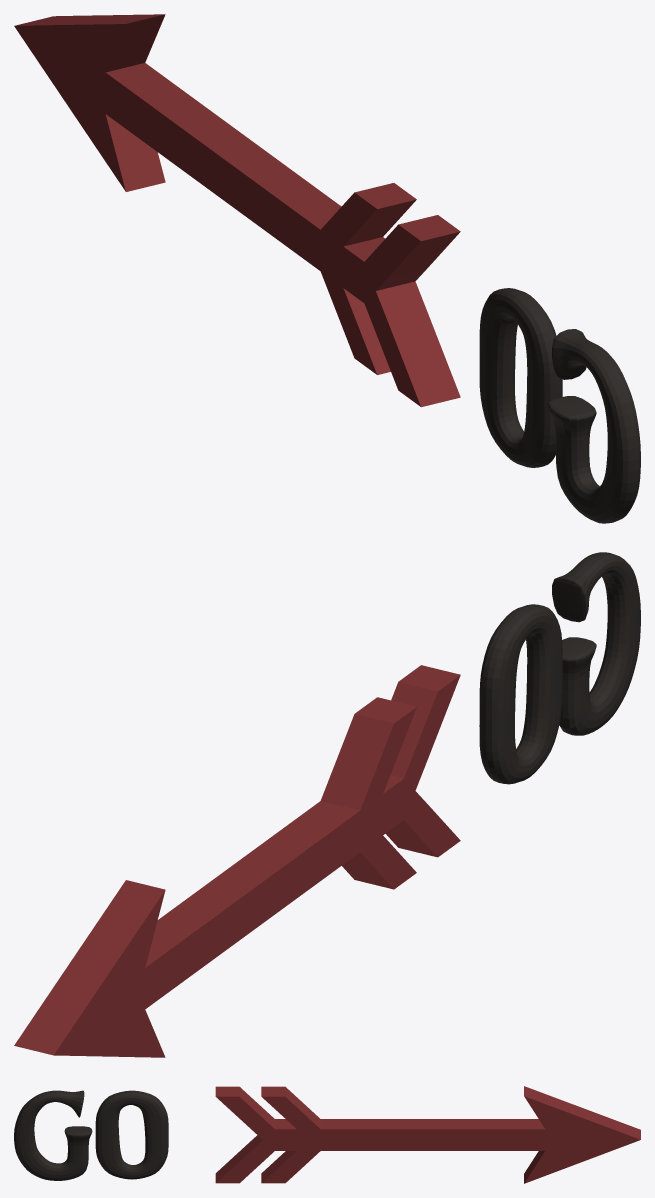
File: GoFlecha.fbx
3 renders of one model, top to bottom at view 1: azimuth 30°, elevation 25°; view 2: azimuth 150°, elevation 25°; view 3: azimuth 270°, elevation 25°, orthographic. The views are drawn at different scales.
Parts seen in each view (by area): view 1: Flecha.001; view 2: Flecha.001; view 3: Flecha.001.
Part boxes in pixels (<box>): Flecha.001: <box>14,14,640,523</box>; Flecha.001: <box>14,552,640,1057</box>; Flecha.001: <box>14,1086,640,1183</box>.
Bounding box in the file's own units: 200 × 821 × 5244.
